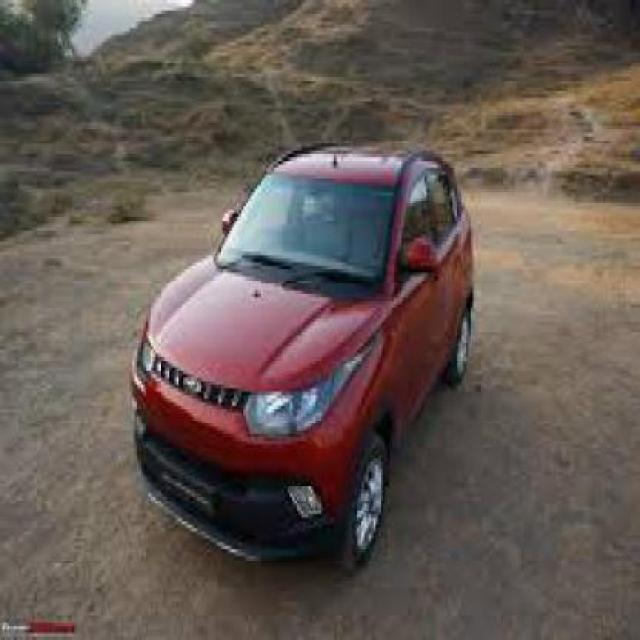vehicle: (130, 135, 482, 578)
